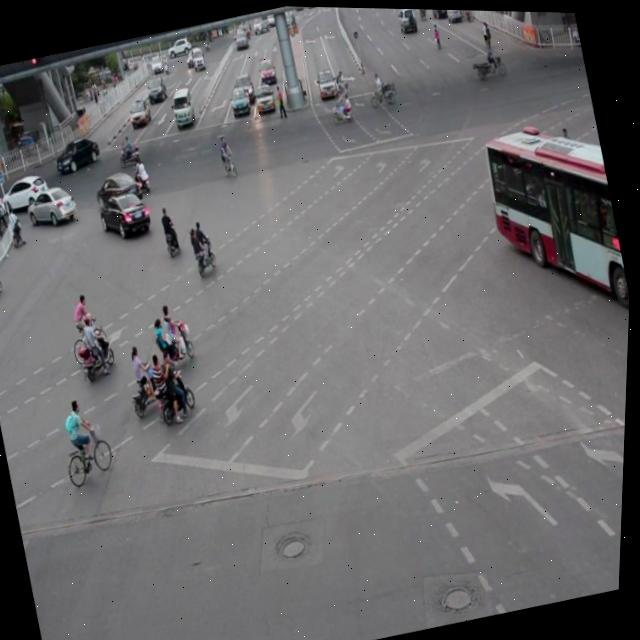car: (96, 185, 156, 242), (24, 181, 81, 229), (0, 169, 53, 214), (94, 165, 146, 209), (53, 132, 106, 175)
van: (474, 112, 637, 327)
